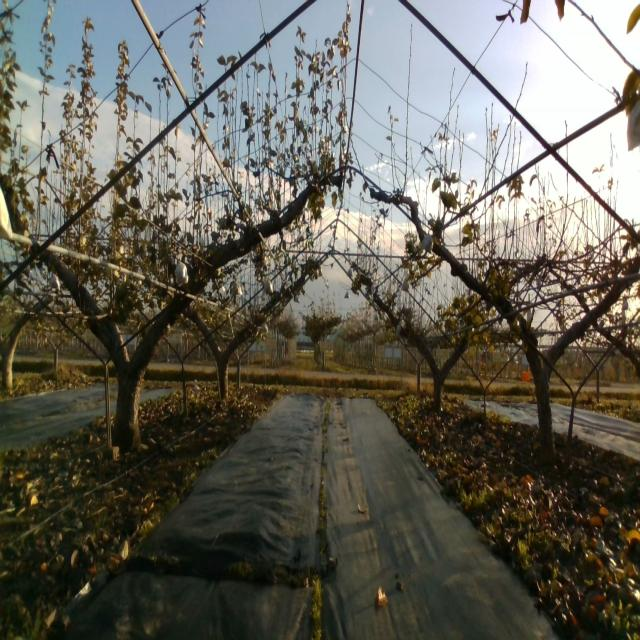pearbags: (175, 260, 188, 287), (420, 233, 434, 254), (231, 281, 244, 298)
